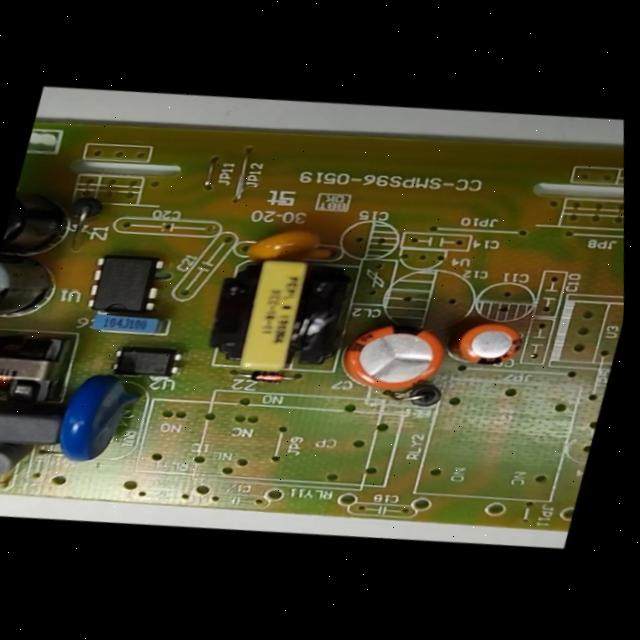Cap1: (326, 307, 463, 409)
Cap2: (432, 305, 537, 379)
Cap3: (0, 247, 67, 328)
Cap4: (0, 173, 99, 268)
MOSFET: (73, 244, 185, 326)
Mov: (28, 363, 166, 475)
Resistor: (0, 432, 43, 498)
Transformer: (185, 239, 383, 391), (0, 322, 84, 414)
